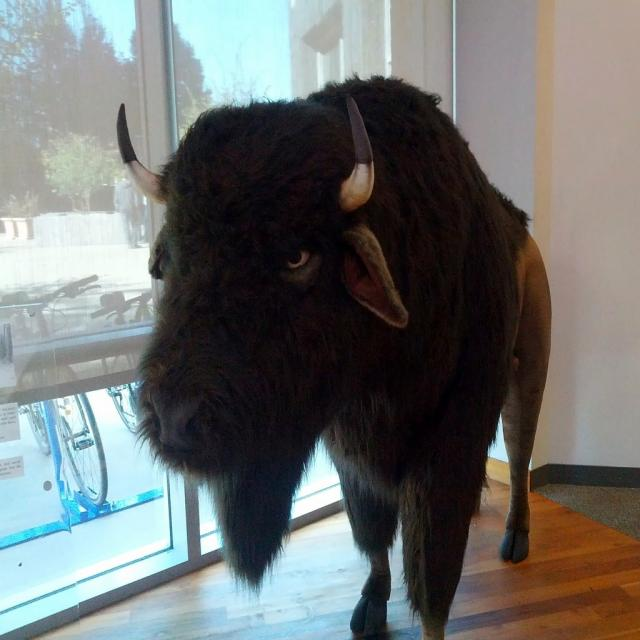Bull: (115, 70, 552, 640)
